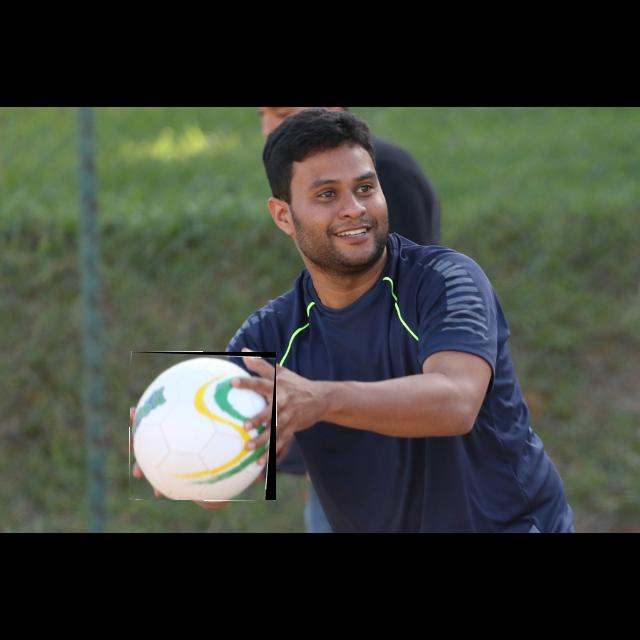Football: (130, 352, 276, 500)
